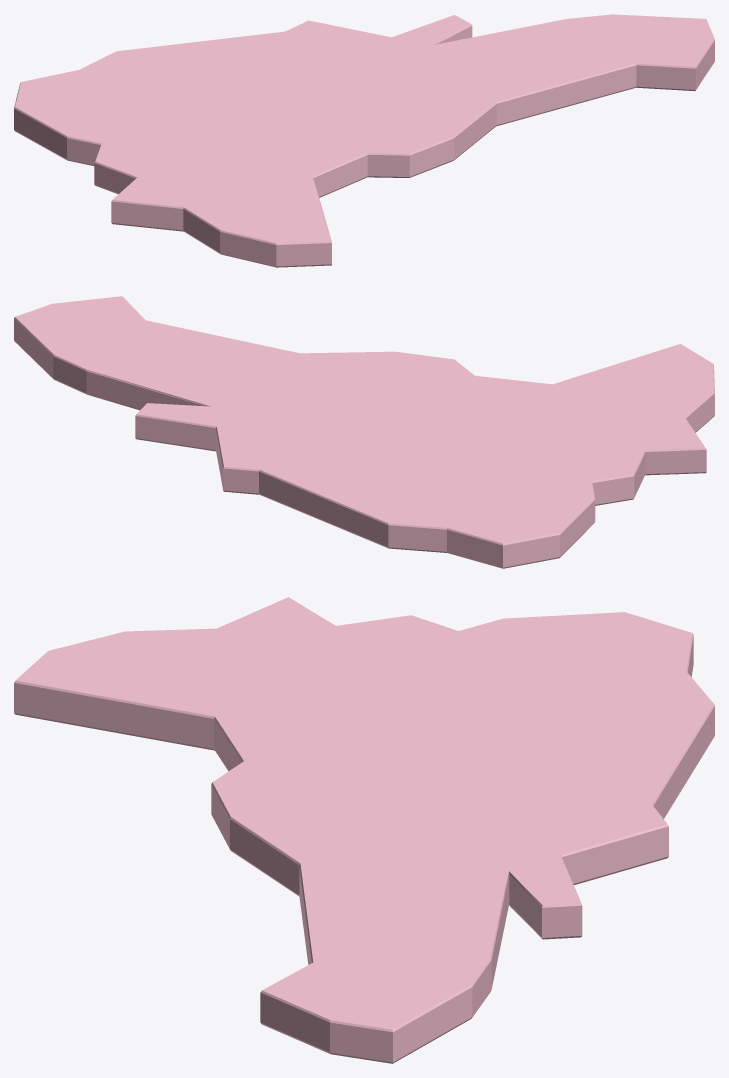
Rendered from DOM.glb.
The picture shows the model from 3 angles, top to bottom: view 1: azimuth 30°, elevation 25°; view 2: azimuth 150°, elevation 25°; view 3: azimuth 270°, elevation 25°; orthographic projection. The views are drawn at different scales.
Size of the model in its own units: 1.85 by 0.068 by 1.27.
